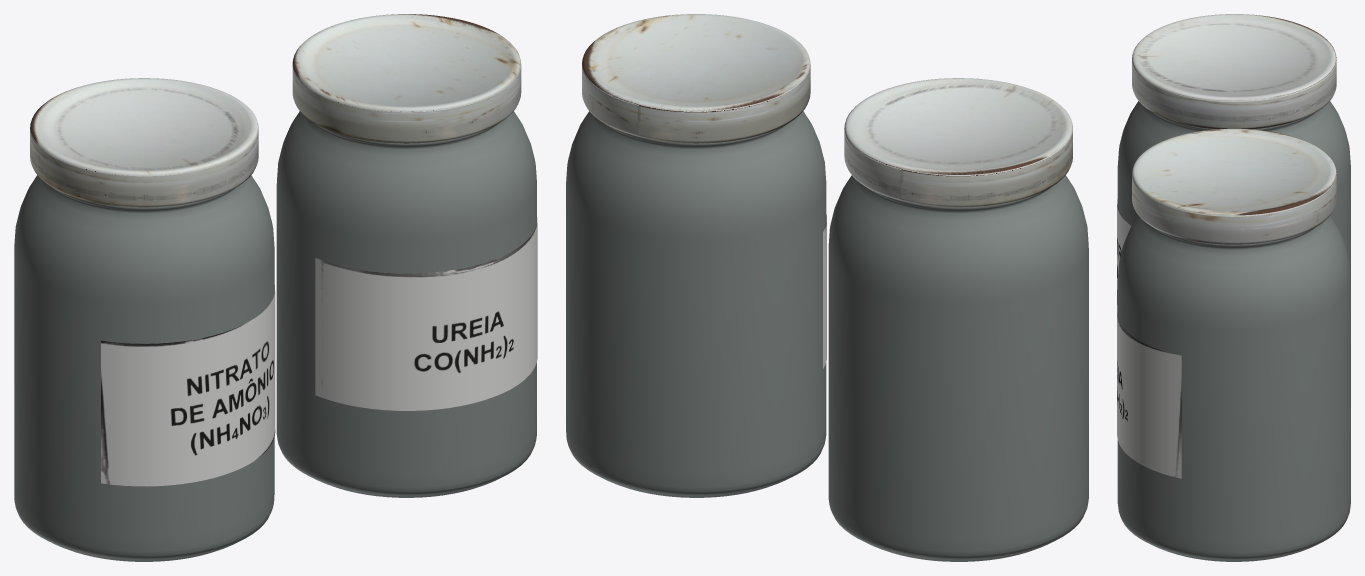
Rendered from fertilizantes_12_07_web.glb.
3 views of the same model, side by side, from view 1: azimuth 30°, elevation 25°; view 2: azimuth 150°, elevation 25°; view 3: azimuth 270°, elevation 25° (orthographic). The views are drawn at different scales.
Visible parts, largest first — view 1: Vidro_Pote_Nitrato_de_Amonio, Vidro_Pote_Ureia, Rotulo_Pote_Ureia, Rotulo_Pote_Nitrato_de_Amonio, Tampa_Pote_Ureia, Tampa_Pote_Nitrato_de_Amonio; view 2: Vidro_Pote_Nitrato_de_Amonio, Vidro_Pote_Ureia, Tampa_Pote_Nitrato_de_Amonio, Tampa_Pote_Ureia; view 3: Vidro_Pote_Ureia, Tampa_Pote_Ureia, Tampa_Pote_Nitrato_de_Amonio, Rotulo_Pote_Ureia, Vidro_Pote_Nitrato_de_Amonio, Rotulo_Pote_Nitrato_de_Amonio.
Part boxes in pixels (x1,y1,x2,y2): Vidro_Pote_Nitrato_de_Amonio: [14, 175, 274, 561]; Vidro_Pote_Ureia: [276, 111, 536, 497]; Rotulo_Pote_Ureia: [315, 217, 537, 410]; Rotulo_Pote_Nitrato_de_Amonio: [101, 285, 275, 486]; Tampa_Pote_Ureia: [292, 14, 521, 143]; Tampa_Pote_Nitrato_de_Amonio: [30, 78, 258, 207]; Vidro_Pote_Nitrato_de_Amonio: [828, 175, 1088, 561]; Vidro_Pote_Ureia: [566, 111, 826, 497]; Tampa_Pote_Nitrato_de_Amonio: [844, 78, 1072, 207]; Tampa_Pote_Ureia: [582, 14, 810, 143]; Vidro_Pote_Ureia: [1117, 216, 1350, 561]; Tampa_Pote_Ureia: [1132, 128, 1336, 244]; Tampa_Pote_Nitrato_de_Amonio: [1132, 14, 1336, 129]; Rotulo_Pote_Ureia: [1117, 310, 1181, 478]; Vidro_Pote_Nitrato_de_Amonio: [1117, 101, 1350, 279]; Rotulo_Pote_Nitrato_de_Amonio: [1117, 199, 1131, 312].
Size of the model in its own units: 0.1774 by 0.1353 by 0.0822.
8 materials, 6 textured.
